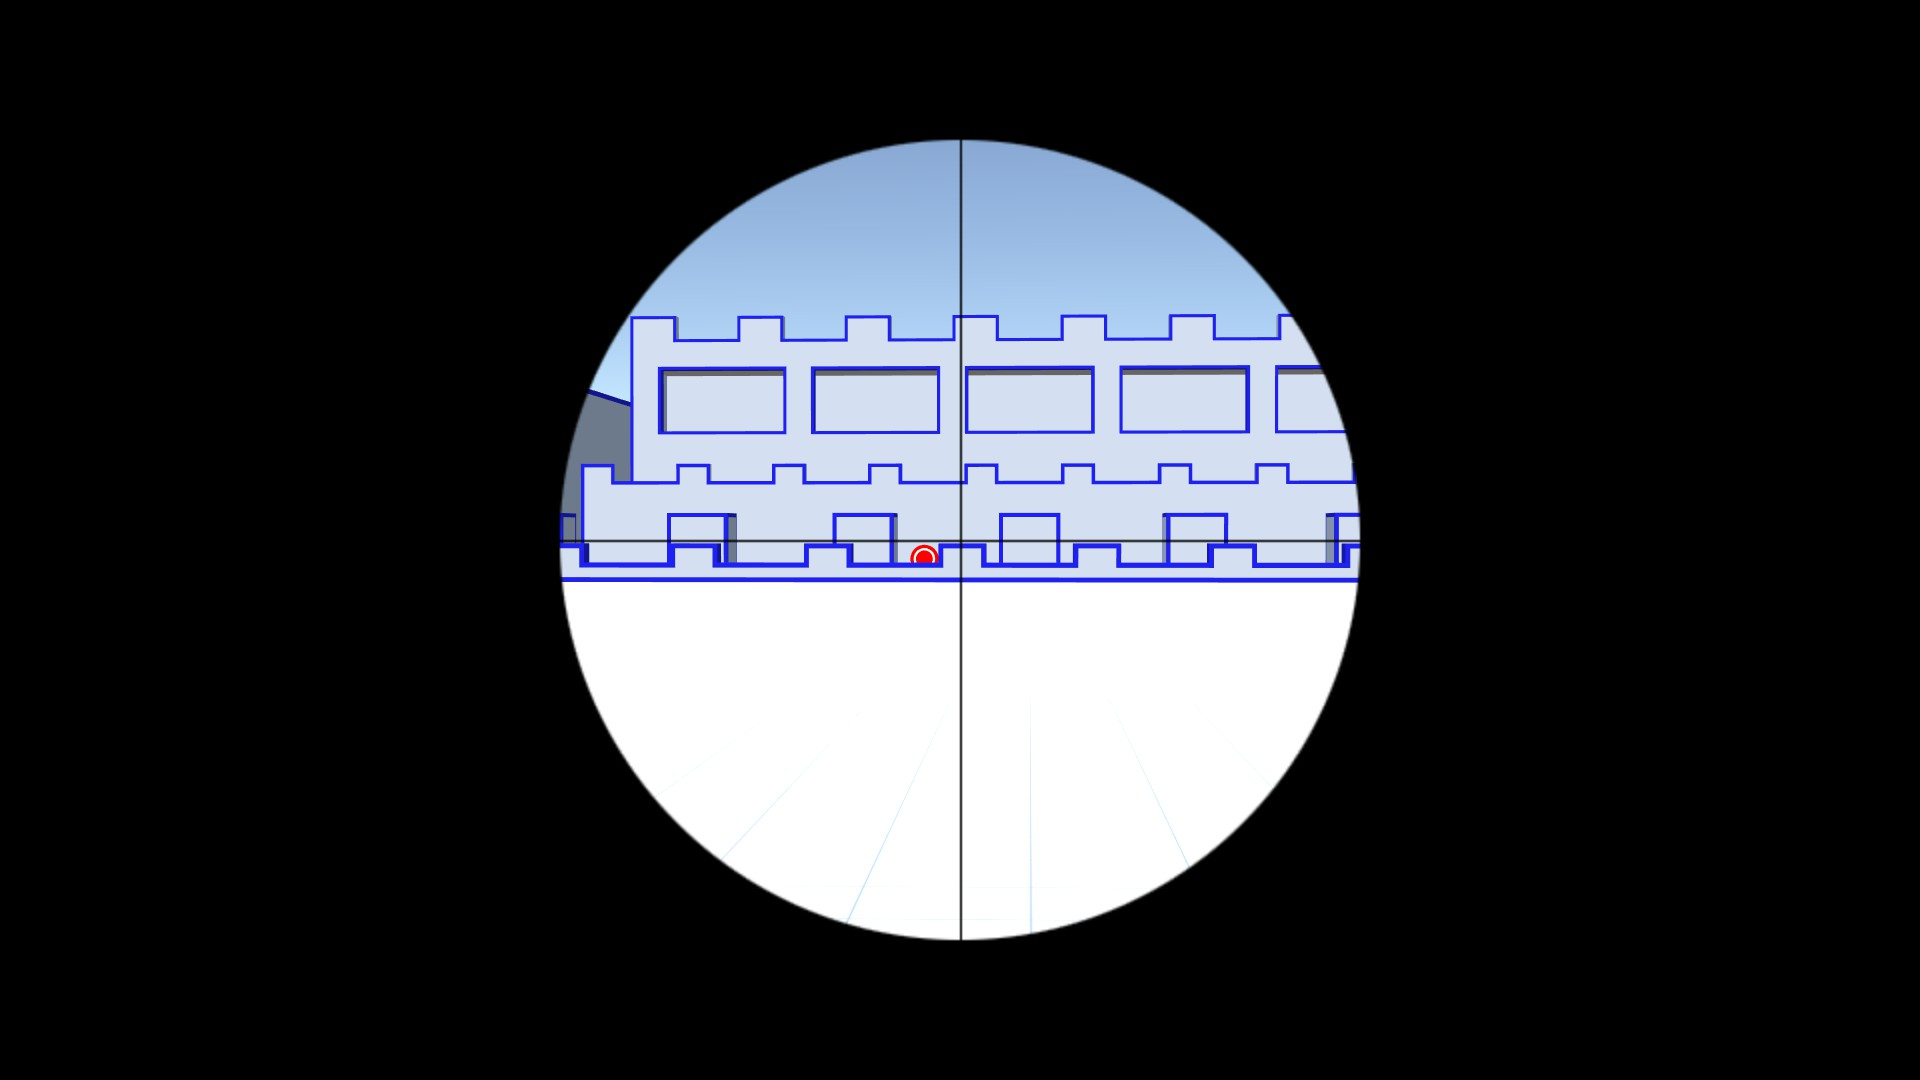target: (909, 542, 943, 568)
